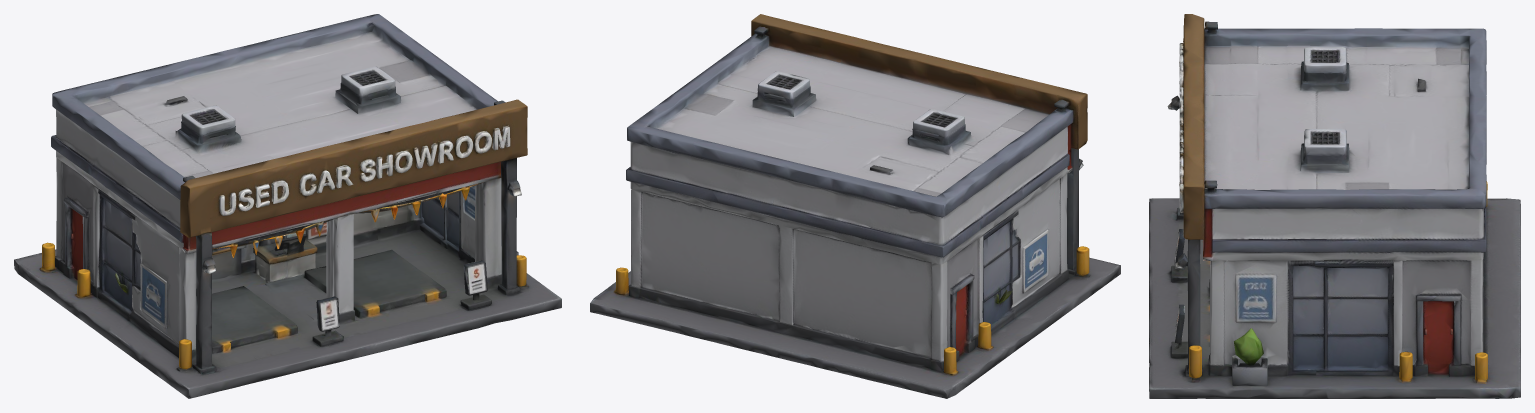
File: used_car_showroom_1k_real.glb
3 views of the same model, side by side, from view 1: azimuth 30°, elevation 25°; view 2: azimuth 150°, elevation 25°; view 3: azimuth 270°, elevation 25° (orthographic). The views are drawn at different scales.
Visible parts, largest first — view 1: tripo_node_937e9717-d828-4567-9ff8-d7614a7620dd; view 2: tripo_node_937e9717-d828-4567-9ff8-d7614a7620dd; view 3: tripo_node_937e9717-d828-4567-9ff8-d7614a7620dd.
Part boxes in pixels (box(x1,y1,x2,y2)): tripo_node_937e9717-d828-4567-9ff8-d7614a7620dd: box(14, 14, 561, 398); tripo_node_937e9717-d828-4567-9ff8-d7614a7620dd: box(590, 14, 1120, 398); tripo_node_937e9717-d828-4567-9ff8-d7614a7620dd: box(1149, 14, 1520, 398).
Bounding box in the file's own units: 1 × 0.5016 × 0.8225.
Materials: 1 (1 with a texture image).
